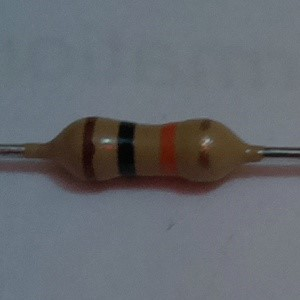black_band: (115, 118, 138, 180)
brown_band: (80, 115, 100, 184)
gold_band: (194, 116, 214, 185)
orange_band: (158, 119, 179, 180)
